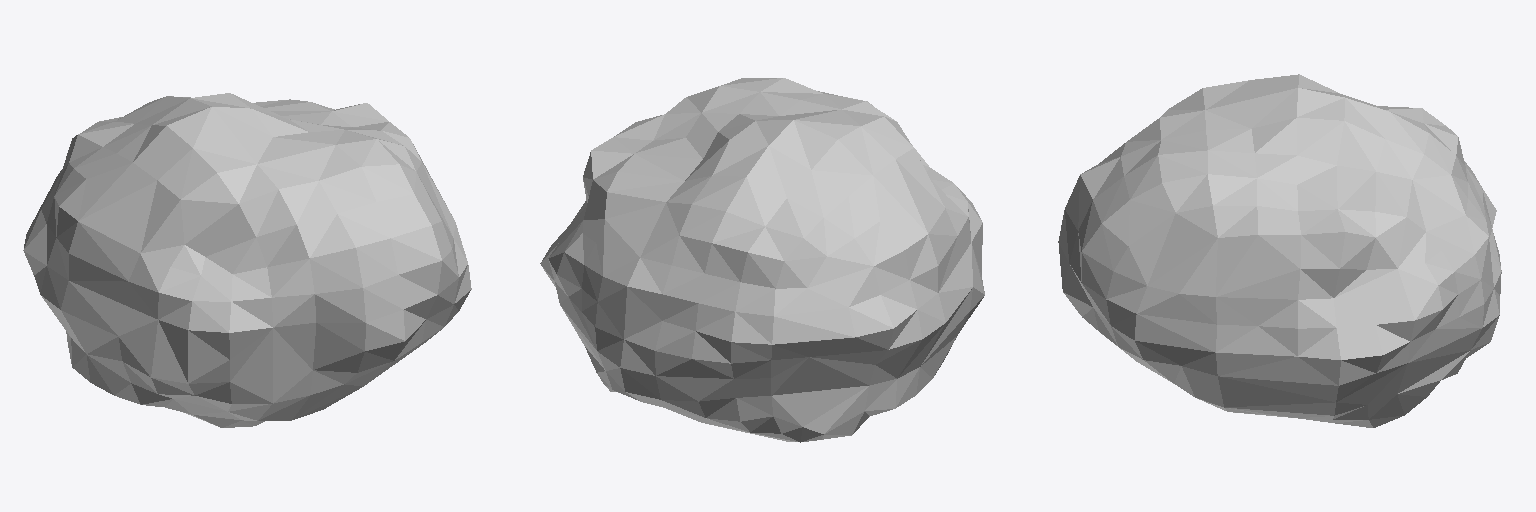
File: mineral3.obj
3 views of the same model, side by side, from view 1: azimuth 30°, elevation 25°; view 2: azimuth 150°, elevation 25°; view 3: azimuth 270°, elevation 25° (orthographic).
Parts seen in each view (by area): view 1: Rock:Mesh; view 2: Rock:Mesh; view 3: Rock:Mesh.
Boxes of the visible parts, x1,y1,x2,y2 form: Rock:Mesh: [23, 93, 471, 427]; Rock:Mesh: [540, 78, 984, 442]; Rock:Mesh: [1058, 74, 1501, 427].
Size of the model in its own units: 1.94 by 1.5 by 1.99.